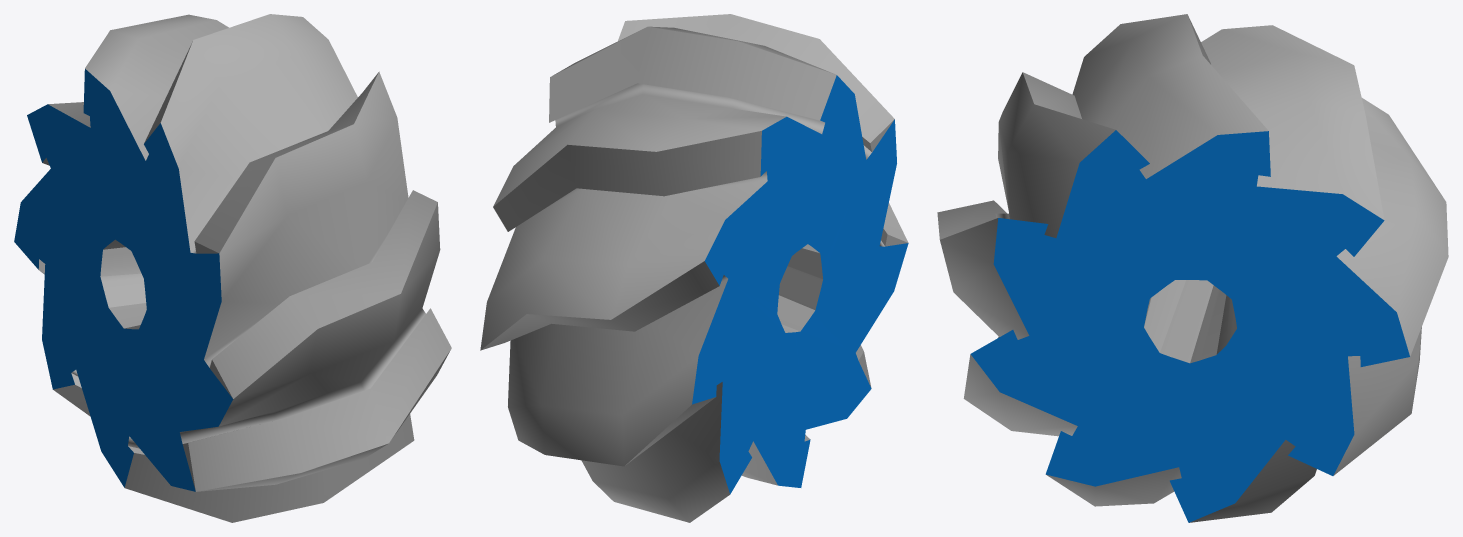
Rendered from Wheel.fbx.
3 views of the same model, side by side, from view 1: azimuth 30°, elevation 25°; view 2: azimuth 150°, elevation 25°; view 3: azimuth 270°, elevation 25° (orthographic).
Parts seen in each view (by area): view 1: pPipe31; view 2: pPipe31; view 3: pPipe31.
Part boxes in pixels (<box>): pPipe31: <box>14,14,451,522</box>; pPipe31: <box>480,14,908,522</box>; pPipe31: <box>937,14,1448,522</box>.
Bounding box in the file's own units: 0.0524 × 0.1055 × 0.1069.
